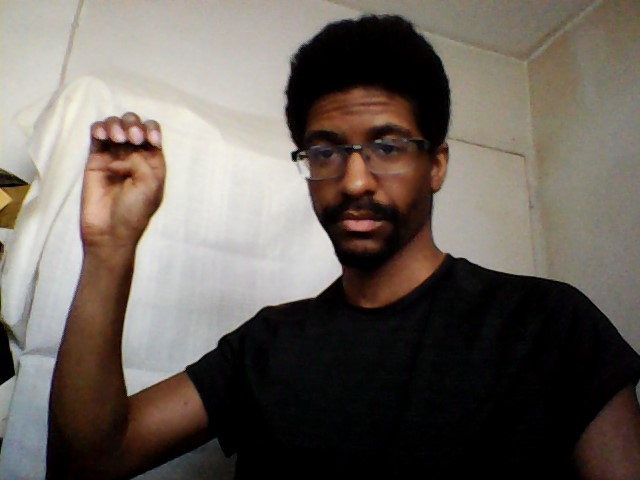e: (74, 110, 170, 256)
